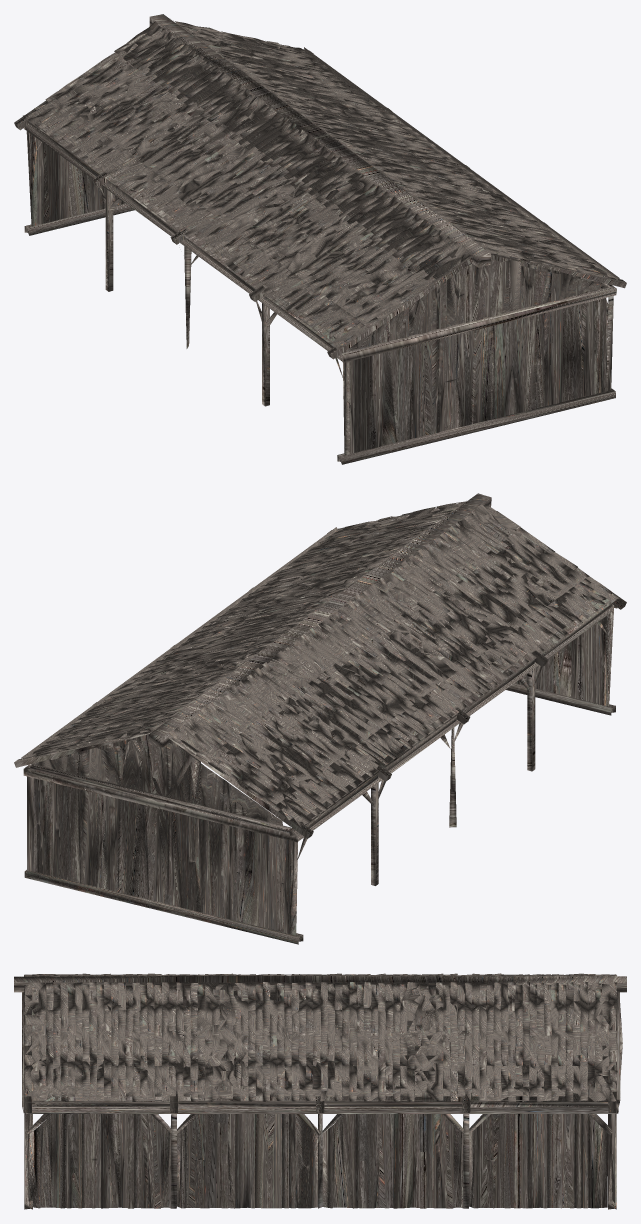
File: farmwood.glb
3 views of the same model, one above another, from view 1: azimuth 30°, elevation 25°; view 2: azimuth 150°, elevation 25°; view 3: azimuth 270°, elevation 25° (orthographic). The views are drawn at different scales.
Visible parts, largest first — view 1: House_Farm_wood; view 2: House_Farm_wood; view 3: House_Farm_wood.
Boxes of the visible parts, x1=… form: House_Farm_wood: x1=14, y1=14, x2=626, y2=464; House_Farm_wood: x1=14, y1=493, x2=626, y2=944; House_Farm_wood: x1=14, y1=973, x2=626, y2=1209.
Size of the model in its own units: 10.9 by 6.38 by 20.98.
Materials: 1 (1 with a texture image).
